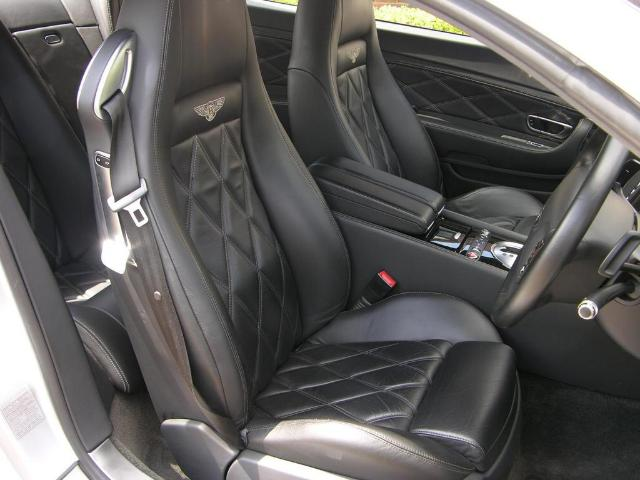Seatbelt: (101, 87, 246, 447)
